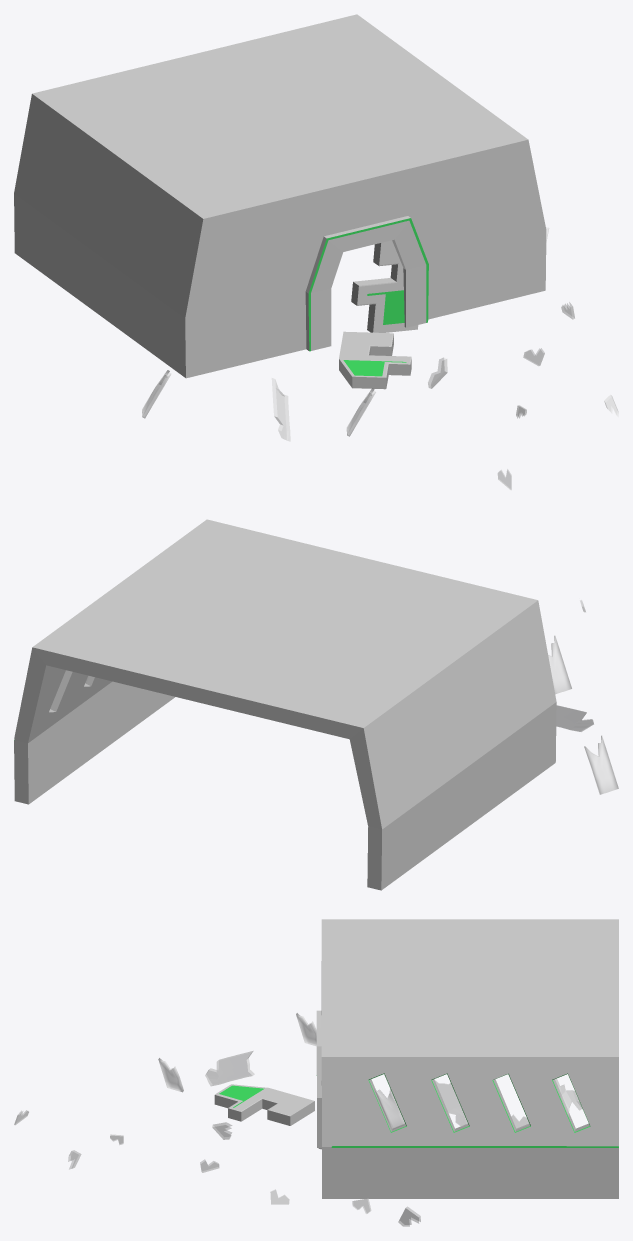
Rendered from door+facility.fbx.
3 views of the same model, one above another, from view 1: azimuth 30°, elevation 25°; view 2: azimuth 150°, elevation 25°; view 3: azimuth 270°, elevation 25° (orthographic). The views are drawn at different scales.
Parts seen in each view (by area): view 1: arch.001, DoorL.001, DoorR.001, Glass.006; view 2: arch.001, Glass.014, Glass.005, Glass.006; view 3: arch.001, DoorL.001, Glass.006, Glass, Glass.001, Glass.005.
Part boxes in pixels (<box>): arch.001: <box>14,14,546,378</box>; DoorL.001: <box>339,331,411,389</box>; DoorR.001: <box>351,240,418,332</box>; Glass.006: <box>271,378,290,441</box>; arch.001: <box>14,519,556,890</box>; Glass.014: <box>584,735,618,794</box>; Glass.005: <box>548,636,571,693</box>; Glass.006: <box>556,705,593,731</box>; arch.001: <box>316,919,618,1198</box>; DoorL.001: <box>214,1084,314,1125</box>; Glass.006: <box>205,1051,254,1086</box>; Glass: <box>433,1079,467,1126</box>; Glass.001: <box>374,1088,405,1129</box>; Glass.005: <box>158,1058,183,1092</box>.
Size of the model in its own units: 3575 by 1315 by 4581.
